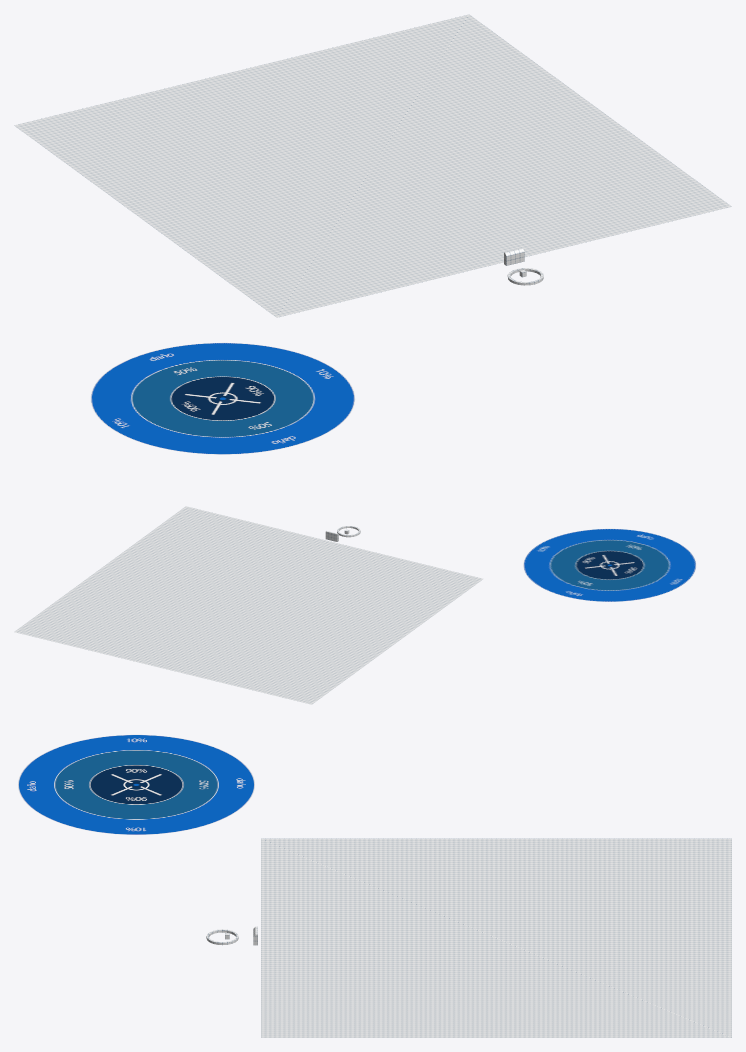
The model's file is Environment_001.fbx.
3 renders of one model, top to bottom at view 1: azimuth 30°, elevation 25°; view 2: azimuth 150°, elevation 25°; view 3: azimuth 270°, elevation 25°, orthographic. The views are drawn at different scales.
Parts seen in each view (by area): view 1: Ground_100m2, Decal_DamageRadius; view 2: Ground_100m2, Decal_DamageRadius; view 3: Ground_100m2, Decal_DamageRadius.
Part boxes in pixels (box(x1,y1,x2,y2)): Ground_100m2: box(14, 14, 731, 317); Decal_DamageRadius: box(90, 342, 355, 454); Ground_100m2: box(14, 506, 482, 704); Decal_DamageRadius: box(523, 528, 696, 601); Ground_100m2: box(261, 838, 731, 1037); Decal_DamageRadius: box(18, 734, 254, 834).
Size of the model in its own units: 15309 by 250 by 15241.
